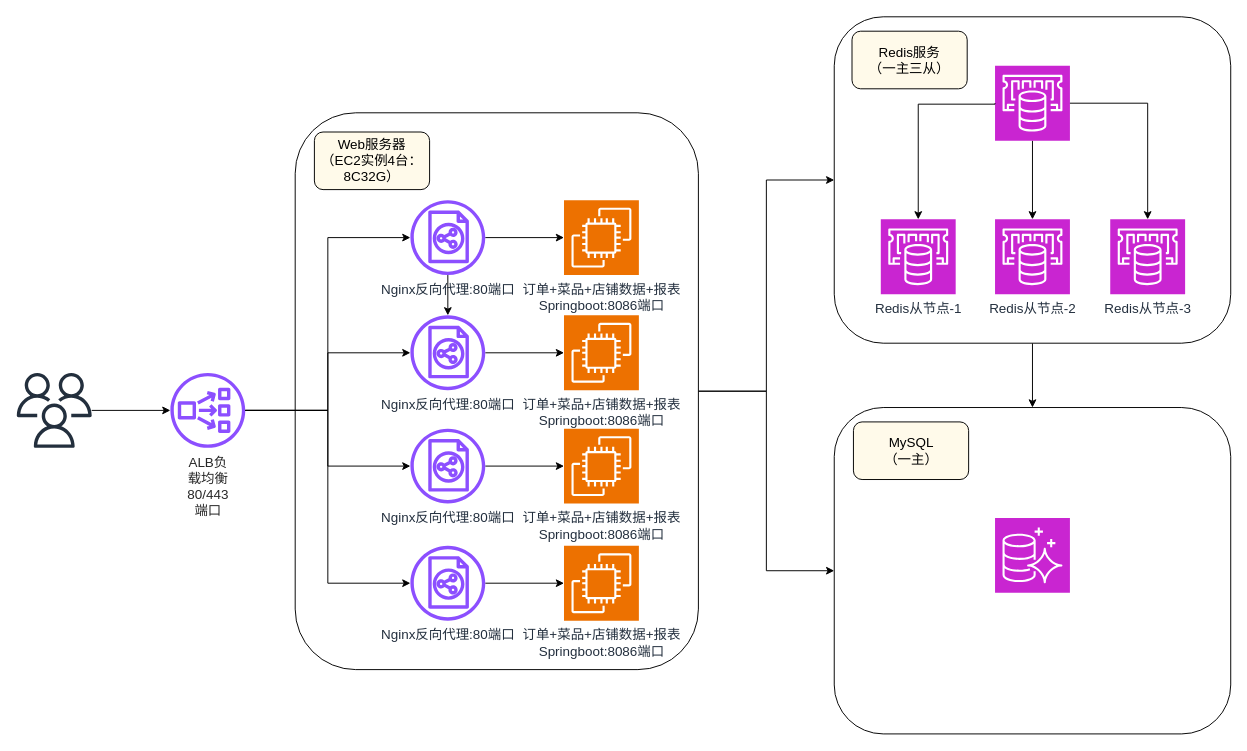
Image size: 1247x751. Some labels were removed from this diagram. The centre of each missing label's shape, as x and y in pixels:
MySQL单节点: (x=1032, y=555)
Redis主节点: (x=1032, y=103)
用户: (x=53, y=409)
